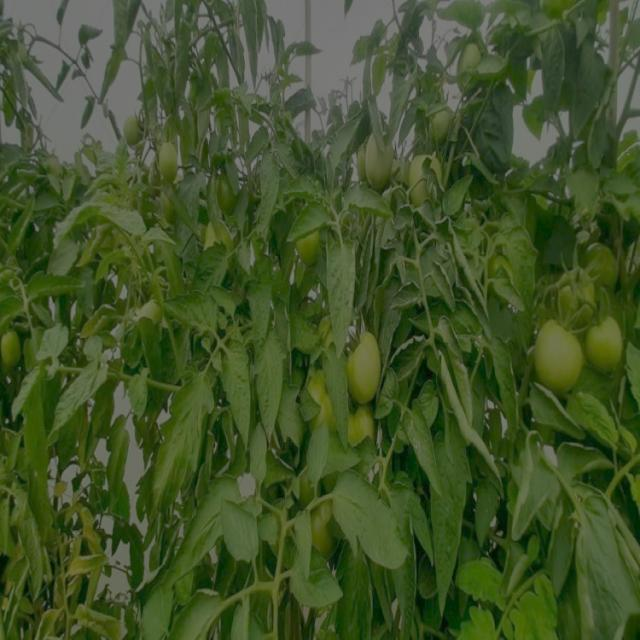tomato: (525, 320, 587, 395), (340, 325, 390, 406), (456, 36, 499, 107), (584, 311, 632, 369), (301, 500, 343, 557), (547, 276, 599, 321), (486, 188, 530, 238), (1, 322, 32, 388), (359, 138, 399, 189), (147, 140, 184, 191), (411, 151, 450, 198), (592, 239, 628, 288), (291, 222, 331, 265), (420, 107, 460, 148), (339, 410, 374, 451), (305, 364, 333, 411), (121, 107, 154, 145)
